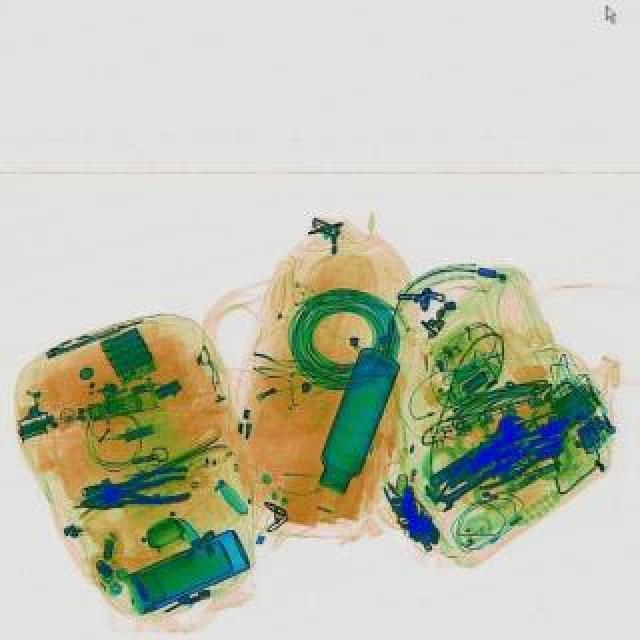scissors: (424, 408, 532, 492), (430, 460, 506, 512)
wrench: (76, 460, 192, 520), (476, 412, 572, 476)
